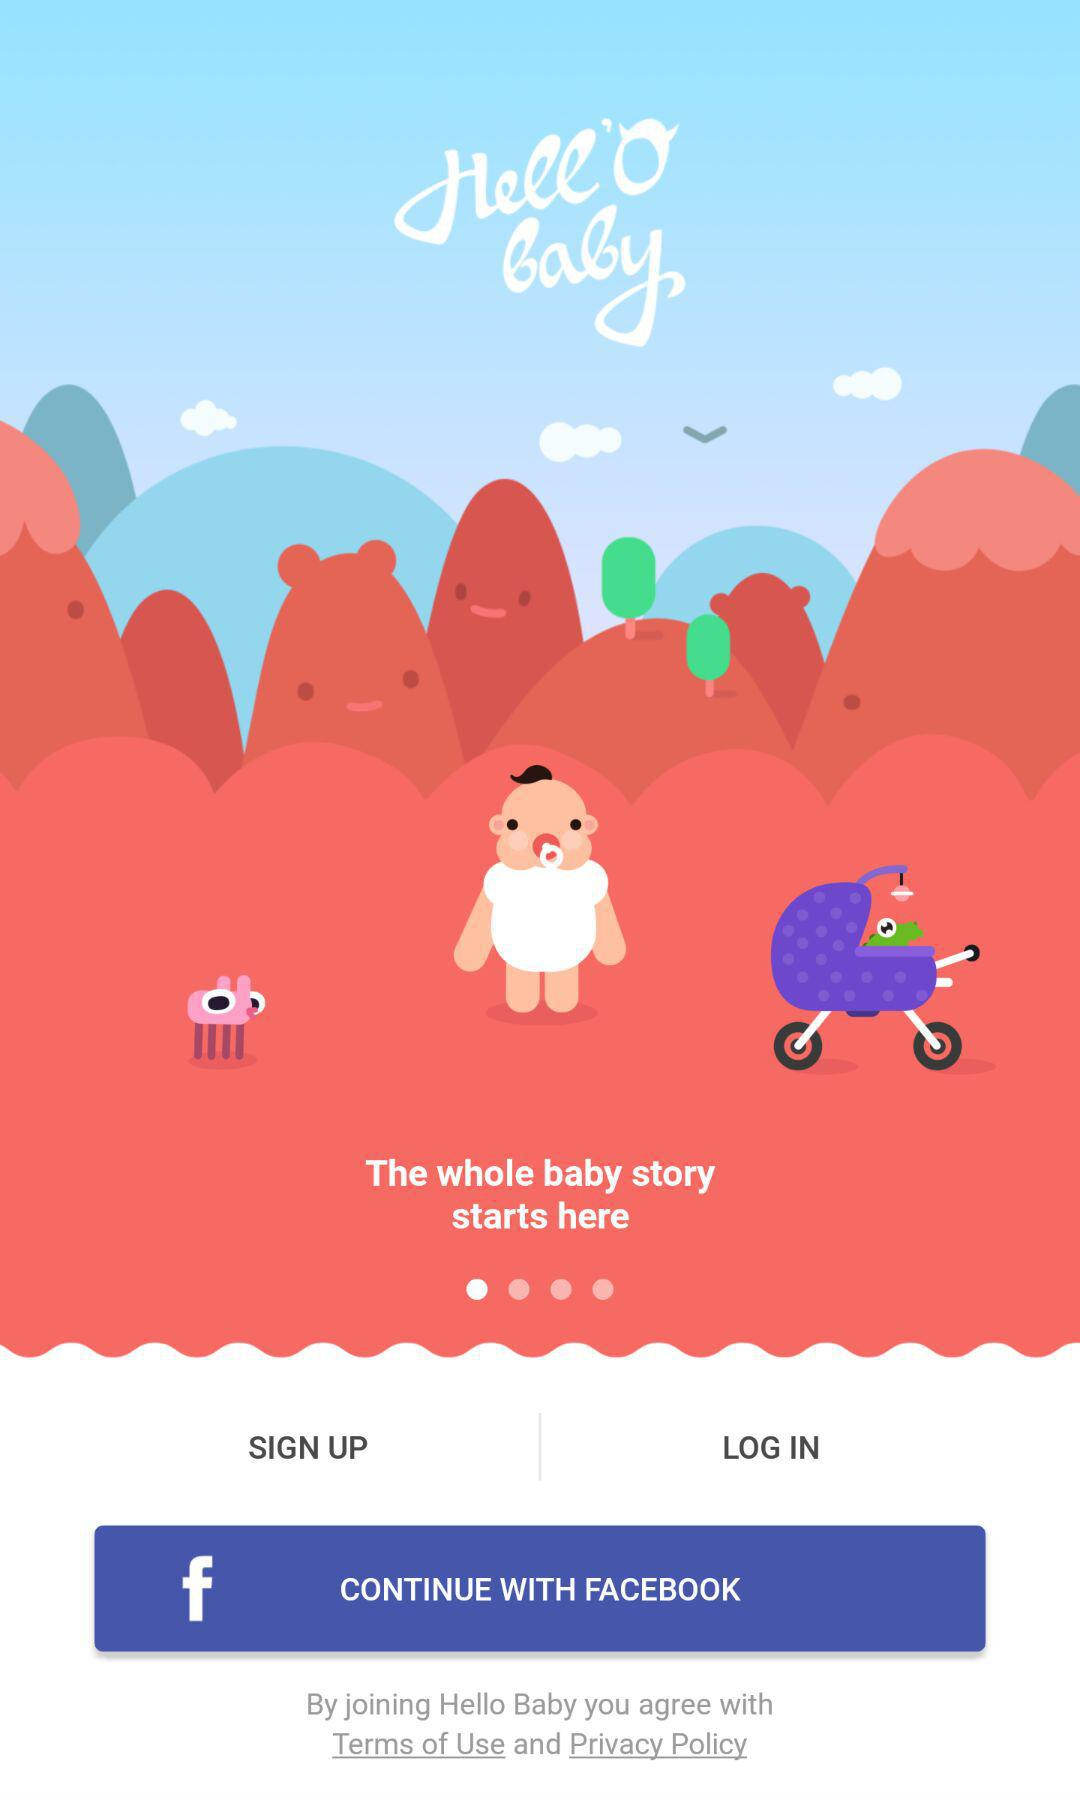Image: (3, 3, 1080, 1358)
PageIndicator: (464, 1278, 616, 1303)
Text: (307, 1691, 773, 1759), (364, 1157, 719, 1231), (249, 1435, 369, 1461), (723, 1435, 820, 1461)
TextButton: (95, 1525, 986, 1652)
